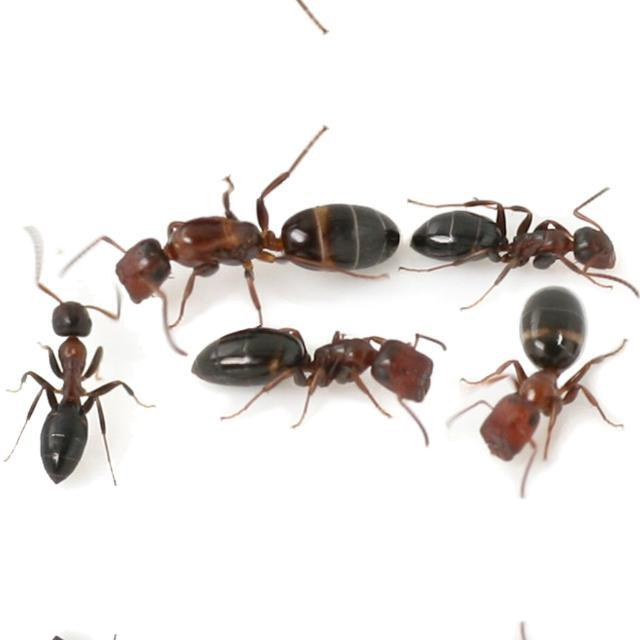Colobopsis: (85, 175, 423, 318), (456, 284, 630, 478), (0, 272, 140, 496), (190, 305, 460, 421), (397, 191, 639, 293)
